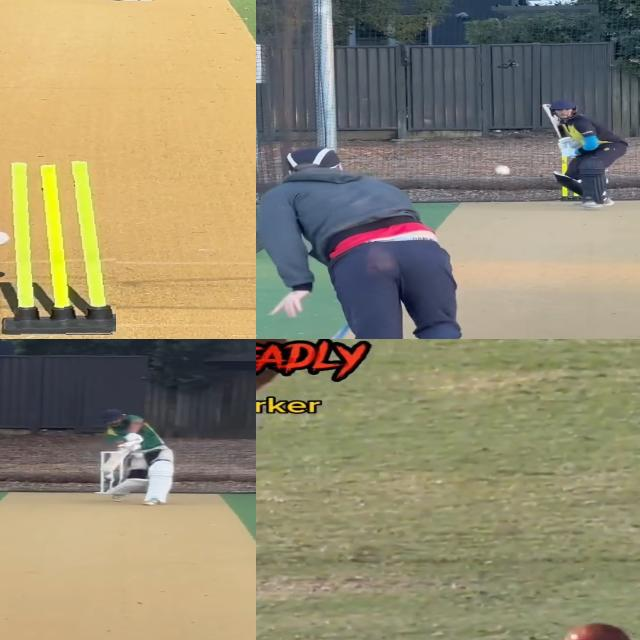Cricket ball: (562, 622, 631, 640), (488, 160, 516, 183), (102, 472, 119, 481)
Stumps: (0, 158, 116, 336)
